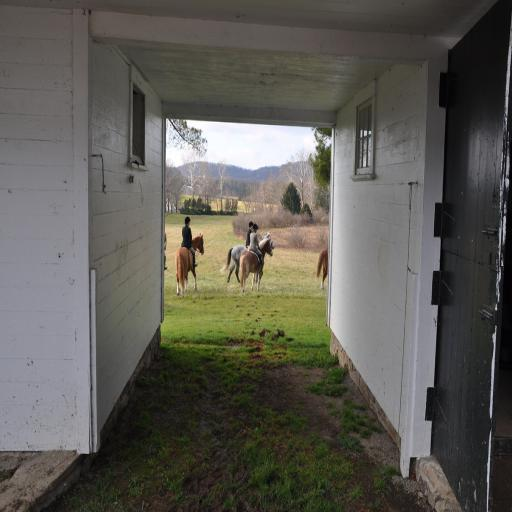horse: (218, 230, 275, 282), (236, 236, 272, 292), (174, 232, 206, 294), (316, 246, 329, 288)
